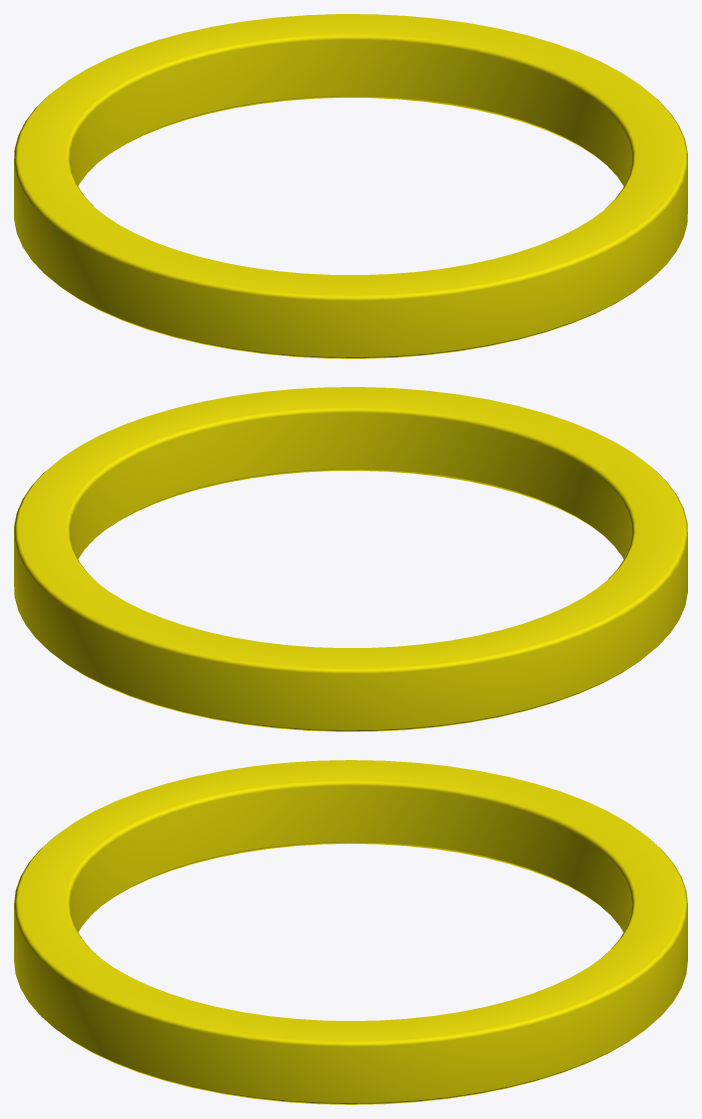
3 views of the same model, one above another, from view 1: azimuth 30°, elevation 25°; view 2: azimuth 150°, elevation 25°; view 3: azimuth 270°, elevation 25° (orthographic).
Visible parts, largest first — view 1: seal_body; view 2: seal_body; view 3: seal_body.
Boxes of the visible parts, x1,y1,x2,y2 form: seal_body: [14, 14, 687, 358]; seal_body: [14, 387, 687, 731]; seal_body: [14, 760, 687, 1104].
Bounding box in the file's own units: 0.048 × 0.005 × 0.048.
